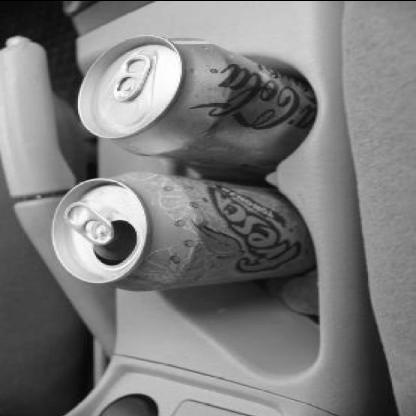alumunium_can: (77, 33, 317, 169), (53, 172, 313, 290)
